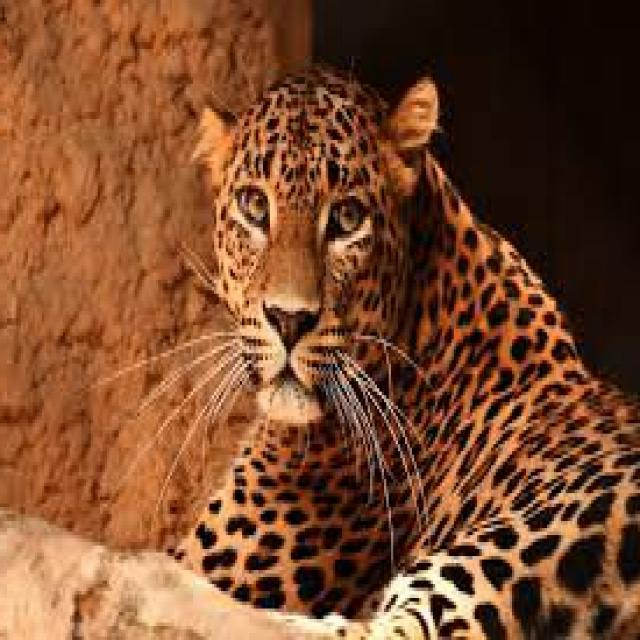leopard: (182, 66, 640, 637)
